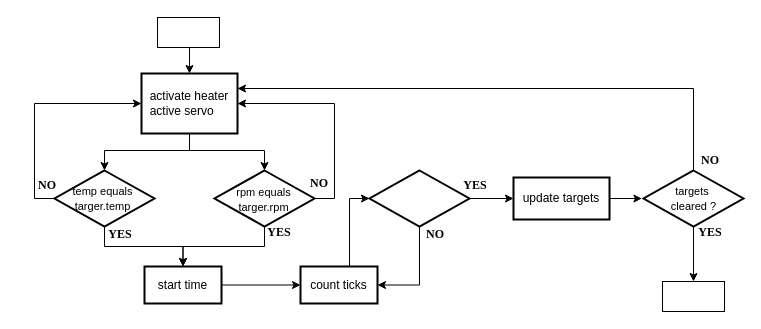
Some shapes in this 761 by 329 pixel diagram are drawn without their labels. Each missing label, with the centre of its shape:
"END" goes at pixel 693 296.
"START" goes at pixel 188 32.
"time equals targer.time" goes at pixel 419 198.
